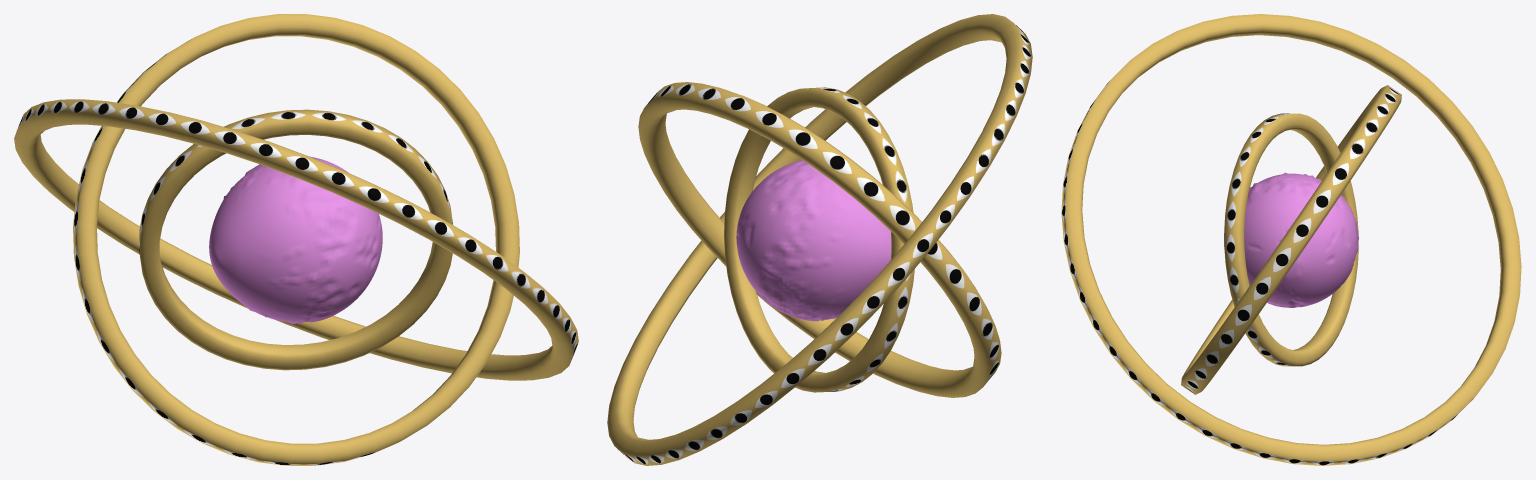
Rendered from Biculhu.fbx.
3 renders of one model, left to right at view 1: azimuth 30°, elevation 25°; view 2: azimuth 150°, elevation 25°; view 3: azimuth 270°, elevation 25°, orthographic. The views are drawn at different scales.
Parts seen in each view (by area): view 1: wheelMid, wheelOuter, Cornea, wheelInner; view 2: wheelOuter, wheelMid, Cornea, wheelInner; view 3: wheelOuter, Cornea, wheelMid, wheelInner.
Part boxes in pixels (x1=…): wheelMid: x1=73, y1=14, x2=519, y2=465; wheelOuter: x1=14, y1=99, x2=578, y2=380; Cornea: x1=209, y1=156, x2=382, y2=324; wheelInner: x1=139, y1=109, x2=452, y2=370; wheelOuter: x1=607, y1=14, x2=1032, y2=465; wheelMid: x1=638, y1=82, x2=1001, y2=397; Cornea: x1=736, y1=160, x2=891, y2=321; wheelInner: x1=724, y1=87, x2=914, y2=392; wheelOuter: x1=1061, y1=14, x2=1521, y2=465; Cornea: x1=1224, y1=172, x2=1358, y2=307; wheelMid: x1=1181, y1=85, x2=1401, y2=394; wheelInner: x1=1224, y1=113, x2=1358, y2=366.
Size of the model in its own units: 561 by 506 by 666.
